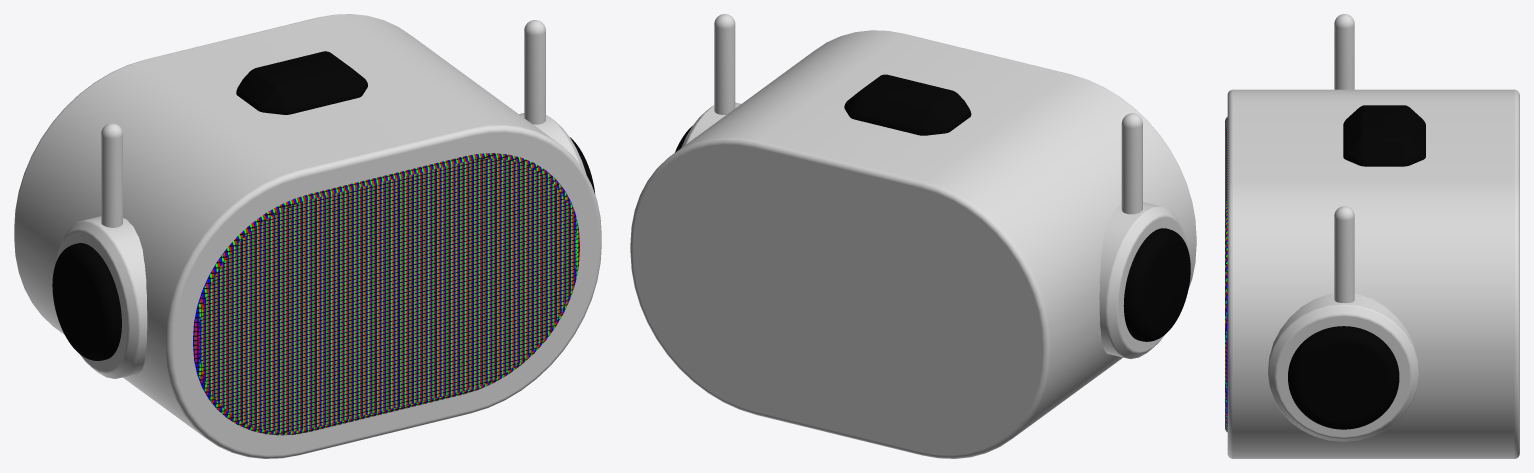
The model's file is bot-drafts-4.glb.
3 renders of one model, left to right at view 1: azimuth 30°, elevation 25°; view 2: azimuth 150°, elevation 25°; view 3: azimuth 270°, elevation 25°, orthographic. The views are drawn at different scales.
Parts seen in each view (by area): view 1: Cube, Cube.001, Cylinder, Cylinder.001, Cube.002, Cylinder.002; view 2: Cube, Cylinder, Cylinder.001, Cube.002, Cylinder.002; view 3: Cube, Cylinder.001, Cylinder, Cube.002, Cylinder.002, Cube.001.
Part boxes in pixels (<box>): Cube: <box>14,14,601,458</box>; Cube.001: <box>193,153,579,435</box>; Cylinder: <box>57,113,586,378</box>; Cylinder.001: <box>52,137,595,360</box>; Cube.002: <box>236,51,367,114</box>; Cylinder.002: <box>101,20,545,227</box>; Cube: <box>630,30,1196,458</box>; Cylinder: <box>681,102,1186,358</box>; Cylinder.001: <box>675,126,1190,341</box>; Cube.002: <box>844,74,971,135</box>; Cylinder.002: <box>714,14,1142,214</box>; Cube: <box>1227,89,1519,458</box>; Cylinder.001: <box>1288,326,1399,429</box>; Cylinder: <box>1268,293,1419,441</box>; Cube.002: <box>1343,105,1425,166</box>; Cylinder.002: <box>1334,14,1354,303</box>; Cube.001: <box>1225,117,1227,432</box>.
Bounding box in the file's own units: 3.63 × 2.35 × 2.02.
Materials: 3 (1 with a texture image).
